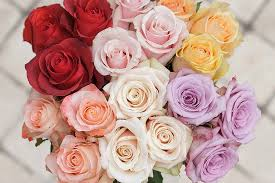lale: (18, 40, 91, 98), (100, 122, 163, 183), (105, 67, 175, 117), (165, 71, 228, 126), (146, 110, 197, 174), (89, 25, 143, 81), (131, 5, 185, 61), (214, 77, 261, 141), (193, 5, 254, 54), (60, 87, 122, 135), (47, 130, 103, 183), (186, 138, 249, 183), (14, 2, 73, 49), (174, 32, 233, 79), (14, 94, 69, 143), (66, 0, 121, 43)
